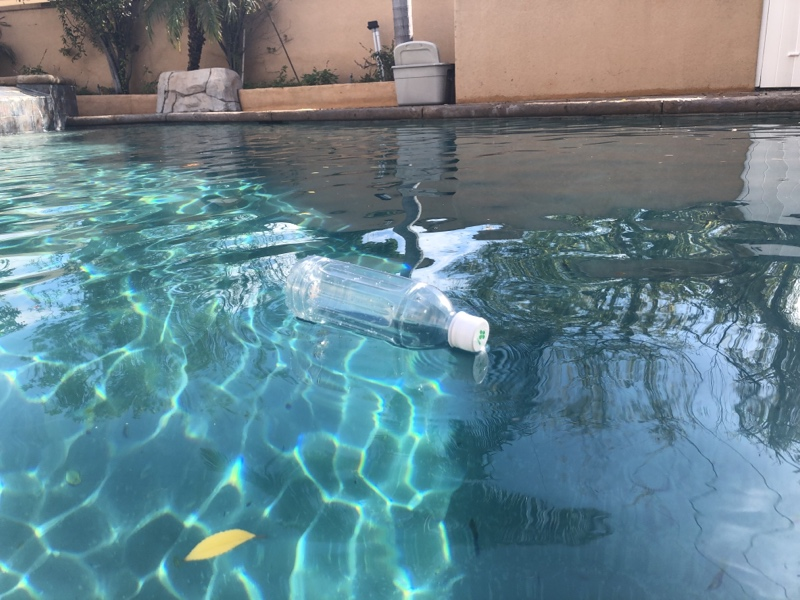Plastic Bottle: (281, 253, 494, 357)
